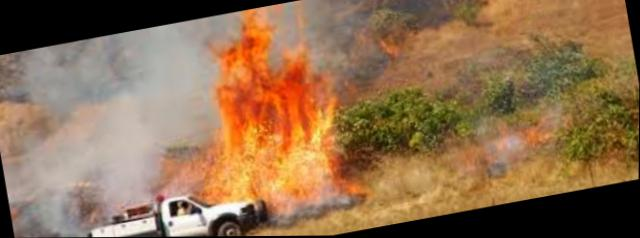fire: (162, 0, 374, 234), (449, 109, 569, 181), (361, 23, 429, 71)
